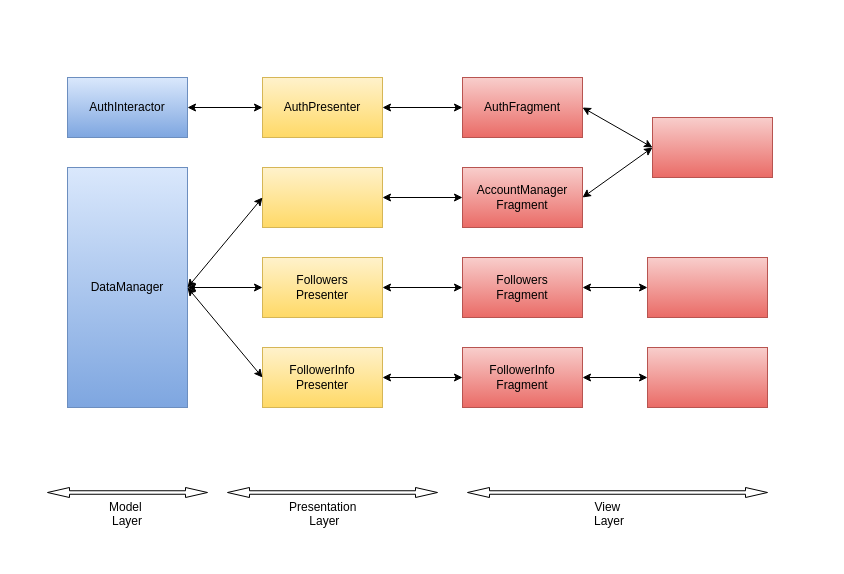
Some shapes in this 844 by 574 pixel diagram are drawn without their labels. Each missing label, with the centre of its shape:
"AccountManager Presenter" belongs at [322,197].
"AuthActivity" belongs at [712,147].
"FollowerInfo Activity" belongs at [707,377].
"Followers Activity" belongs at [707,287].
